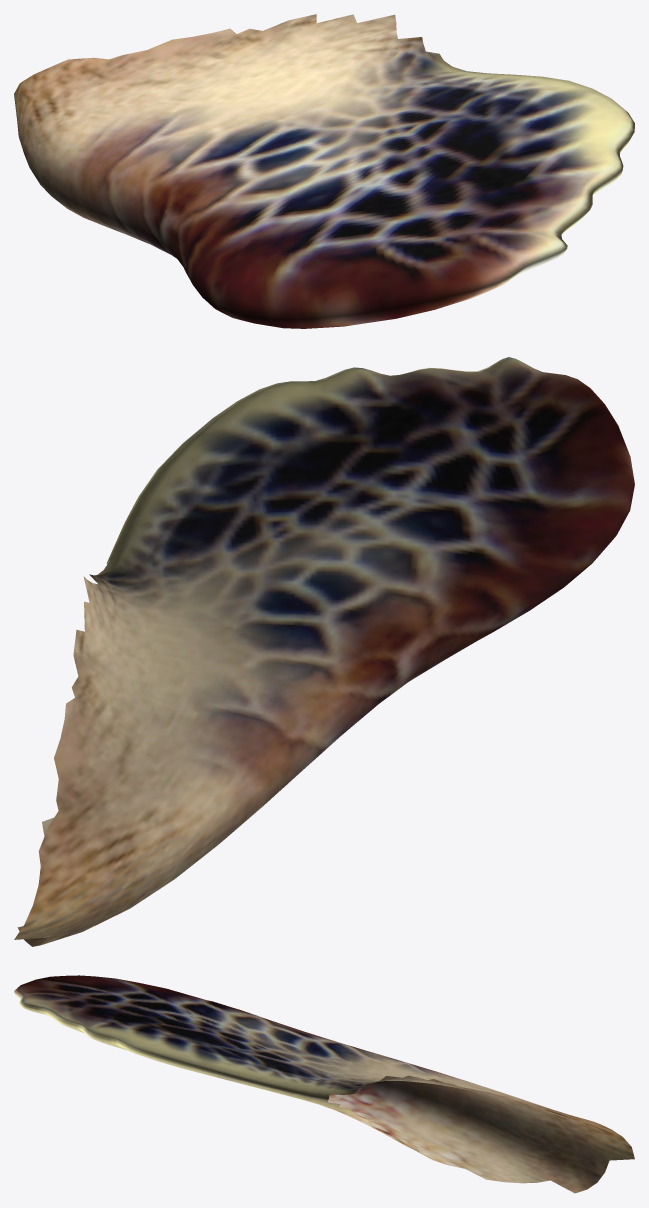
File: tortuga_pataderecha.obj
3 renders of one model, top to bottom at view 1: azimuth 30°, elevation 25°; view 2: azimuth 150°, elevation 25°; view 3: azimuth 270°, elevation 25°, orthographic. The views are drawn at different scales.
Visible parts, largest first — view 1: tortuga_pataderecha:_Sea_Turtle_V1; view 2: tortuga_pataderecha:_Sea_Turtle_V1; view 3: tortuga_pataderecha:_Sea_Turtle_V1.
Boxes of the visible parts, x1,y1,x2,y2 form: tortuga_pataderecha:_Sea_Turtle_V1: [14, 14, 634, 328]; tortuga_pataderecha:_Sea_Turtle_V1: [14, 357, 634, 946]; tortuga_pataderecha:_Sea_Turtle_V1: [14, 975, 634, 1193].
Bounding box in the file's own units: 12.24 × 8.72 × 27.72.
Materials: 1 (1 with a texture image).
